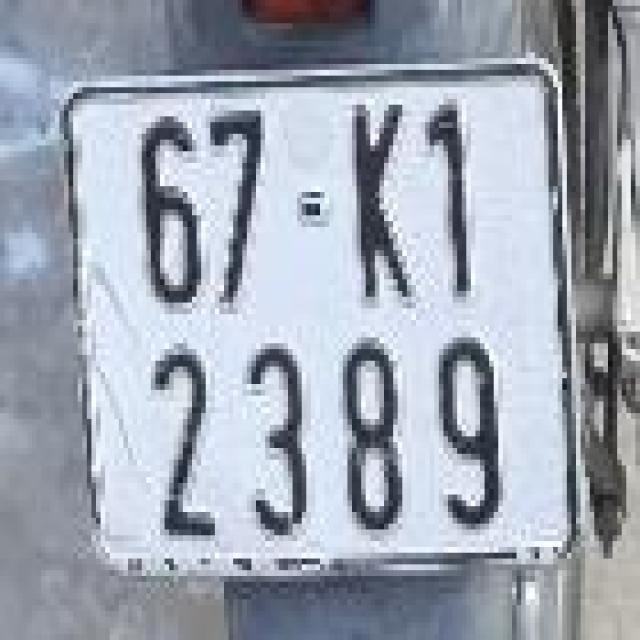1: (423, 82, 491, 314)
2: (140, 323, 226, 544)
3: (238, 329, 320, 550)
6: (130, 111, 208, 314)
7: (201, 96, 279, 317)
8: (329, 323, 421, 544)
9: (432, 323, 519, 550)
K: (338, 93, 416, 308)
